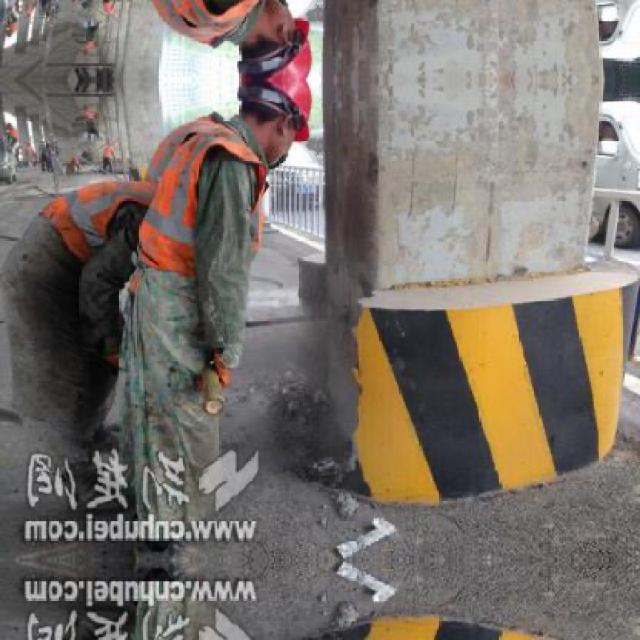con casco: (183, 89, 320, 183)
